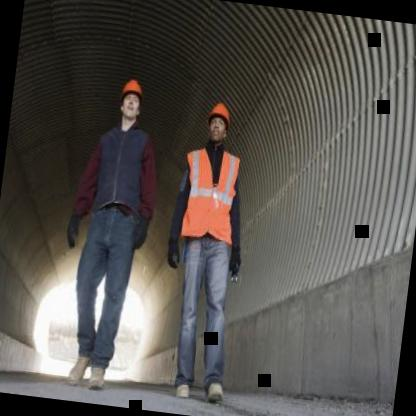helmet: (114, 72, 146, 126), (200, 98, 234, 148)
